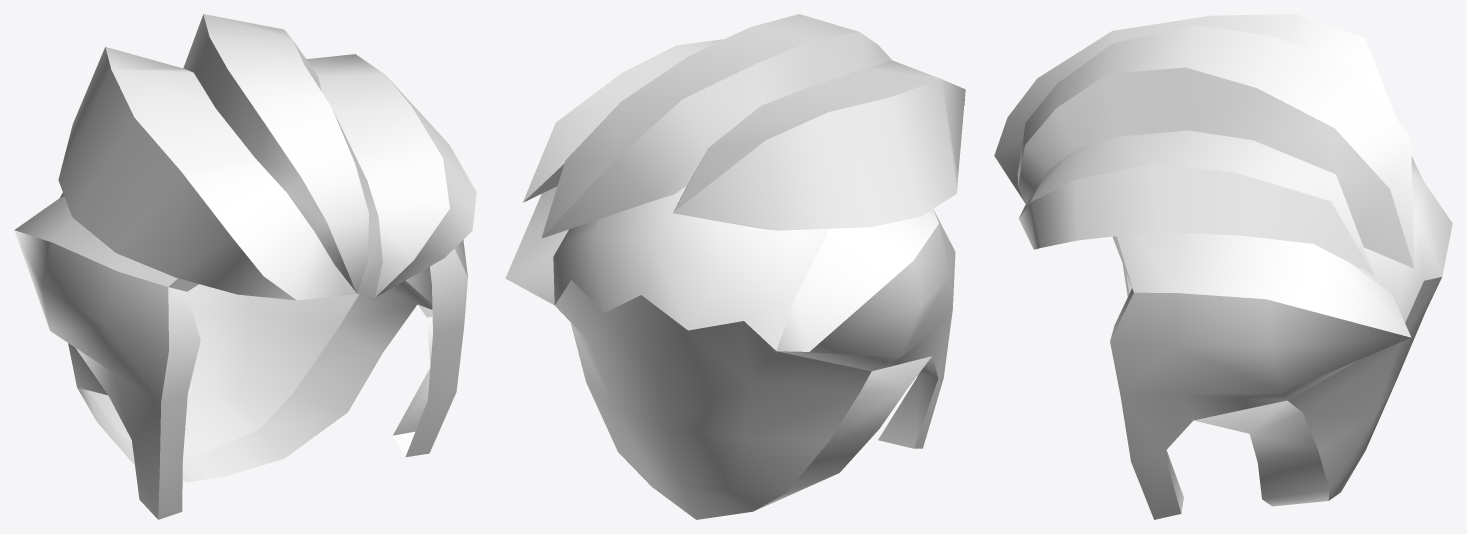
Rendered from Female_Hairs_05_v4.fbx.
3 renders of one model, left to right at view 1: azimuth 30°, elevation 25°; view 2: azimuth 150°, elevation 25°; view 3: azimuth 270°, elevation 25°, orthographic. The views are drawn at different scales.
Visible parts, largest first — view 1: Female_Hairs_05_v4; view 2: Female_Hairs_05_v4; view 3: Female_Hairs_05_v4.
Boxes of the visible parts, box(x1,y1,x2,y2) form: Female_Hairs_05_v4: box(14, 14, 476, 519); Female_Hairs_05_v4: box(505, 14, 965, 519); Female_Hairs_05_v4: box(994, 14, 1452, 519).
Bounding box in the file's own units: 59.52 × 66.12 × 61.33.
